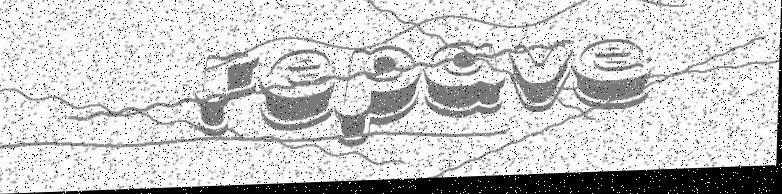a: (418, 41, 507, 124)
e: (259, 52, 339, 132), (569, 44, 657, 115)
p: (334, 46, 424, 153)
r: (193, 50, 263, 146)
v: (502, 44, 574, 121)
